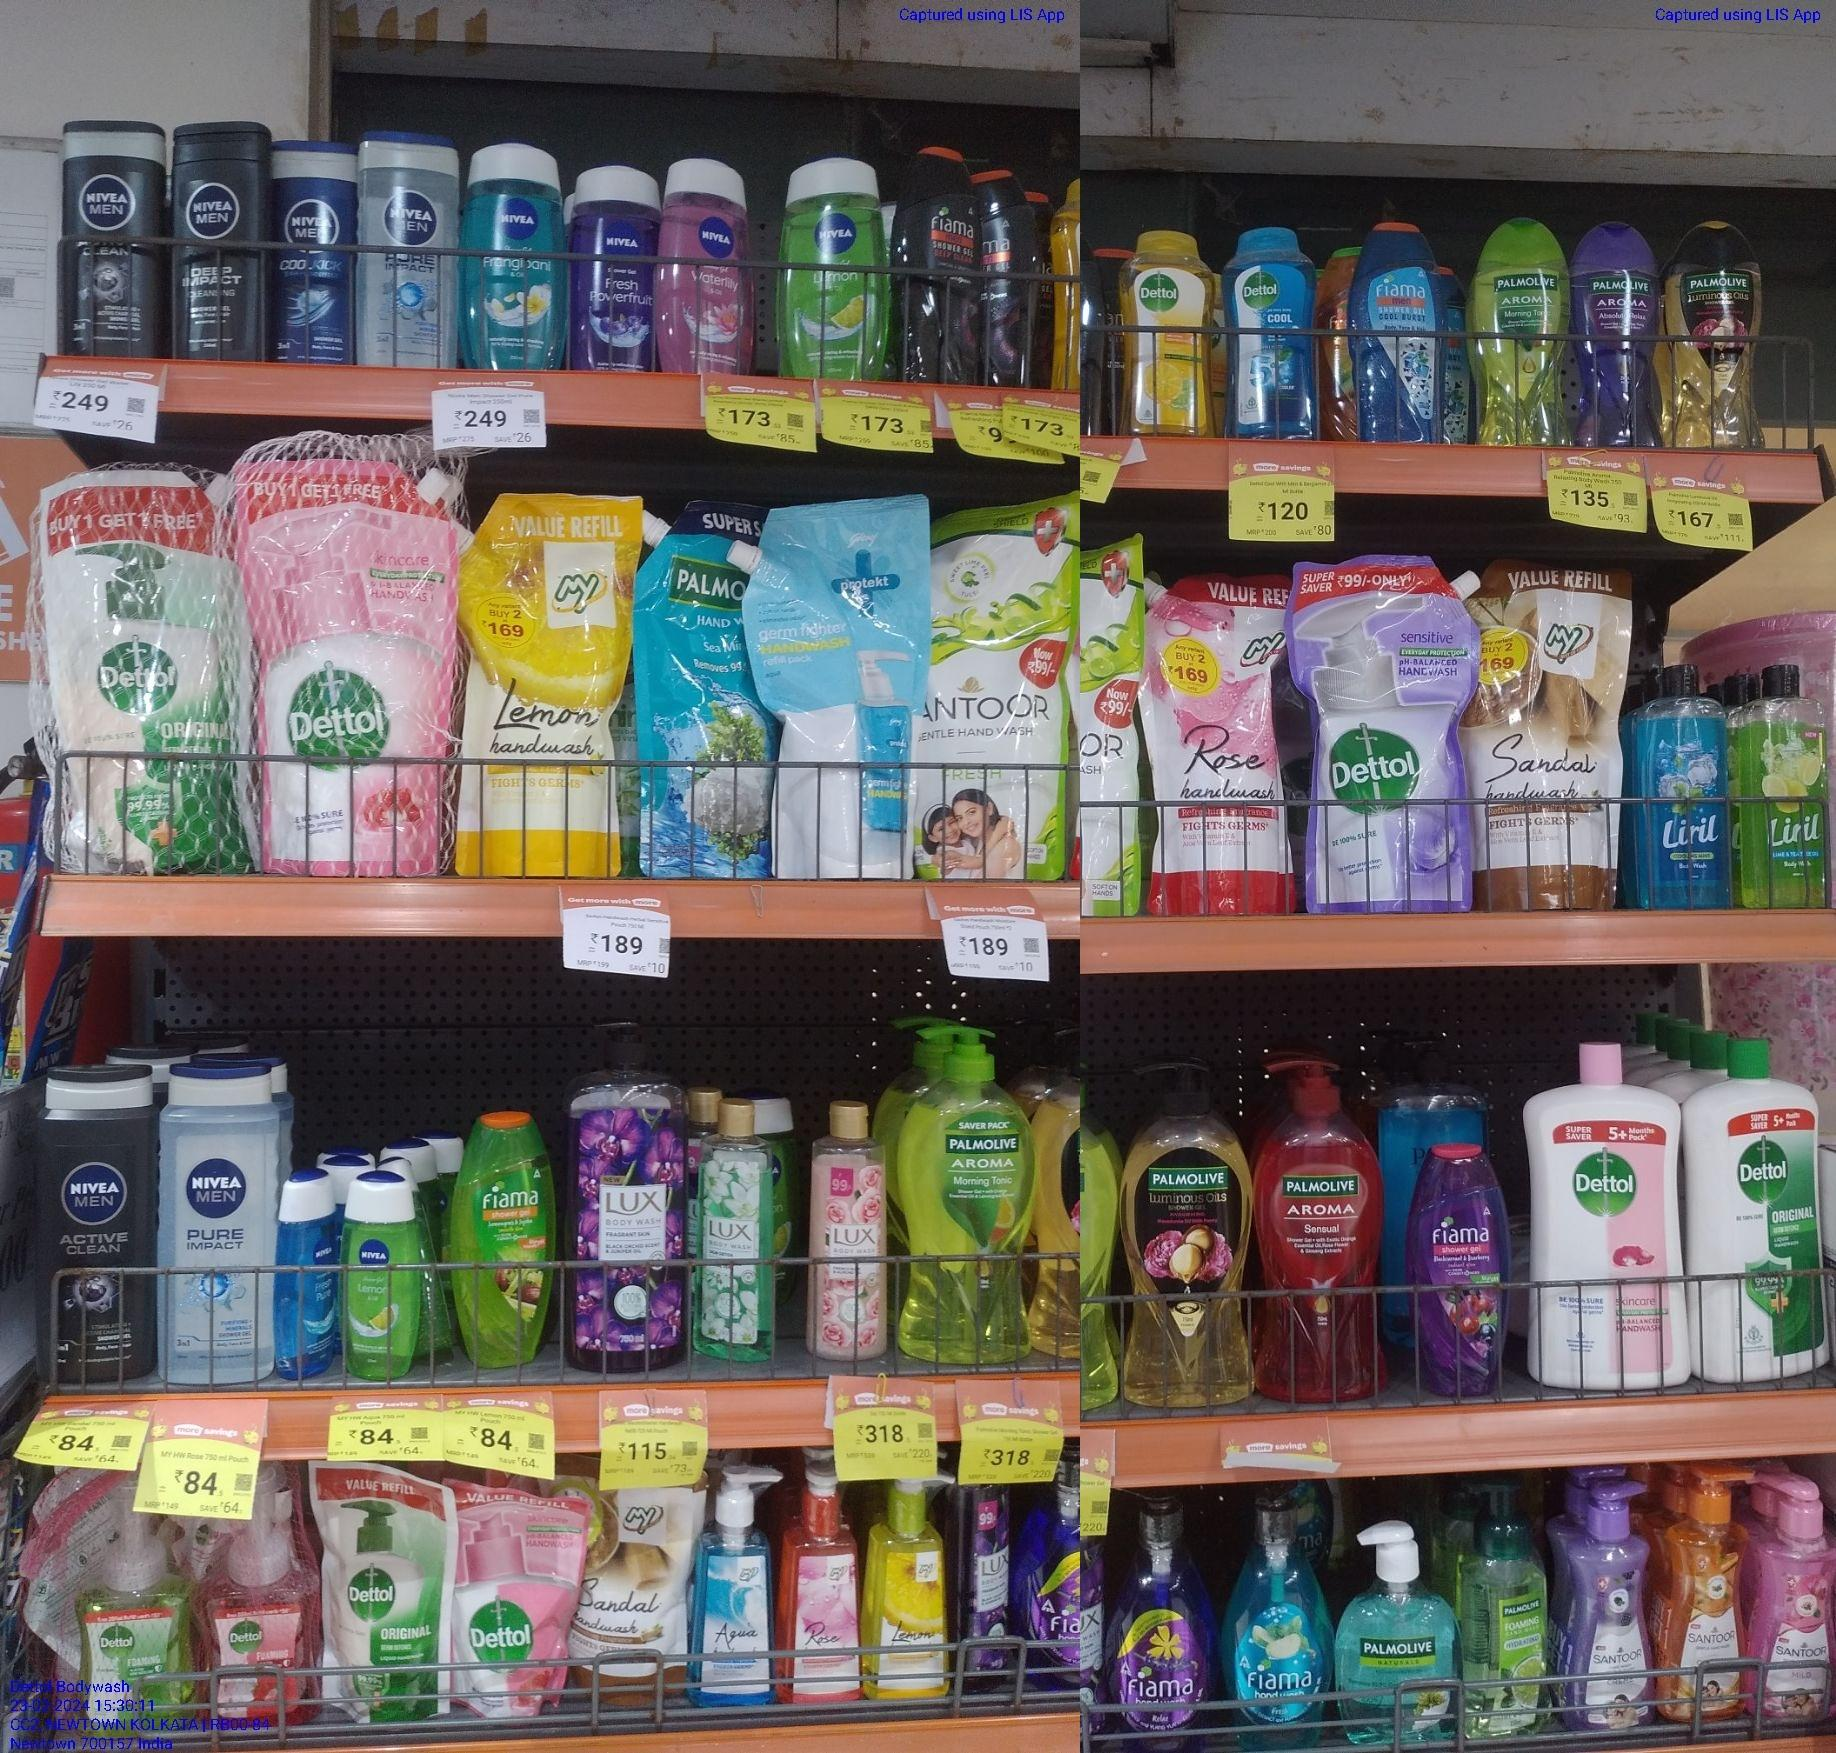Dettol_Bodywash_Cool: (1225, 223, 1325, 439)
Dettol_Bodywash_Refresh: (1125, 225, 1215, 436)
Fiama_Shower_Gel_Lemongrass_and_Jojoba_250ML: (461, 1112, 552, 1366)
Liril_Cooling_Mint_Body_Wash_250ML: (1641, 654, 1738, 912)
Liril_Lime_and_Tea_Tree_Oil_Body_Wash_250ML: (1744, 666, 1834, 910)
Lux_Body_Wash_Skin_Detox_Freesia_Scent_and_Alove_Vera_245ML: (703, 1097, 779, 1359)
Nivea_Shower_Gel_Frangipani_and_Oil_250ML: (461, 139, 570, 372)
Nivea_Shower_Gel_Fresh_Powerfruit_250ML: (572, 153, 662, 379)
Nivea_Shower_Gel_Lemon_and_Oil_250ML: (782, 157, 885, 382)
Nivea_Shower_Gel_Waterlily_and_Oil_250ML: (664, 153, 757, 372)
Palmolive_Aroma_Morning_Tonic_Shower_Gel_250ML: (1479, 208, 1574, 451)
Palmolive_Aroma_Relax_250ML: (1577, 223, 1667, 451)
Palmolive_Luminous_Oils_Invigorating_Macadamia_Oil_With_Peony_250ML: (1672, 220, 1767, 449)
